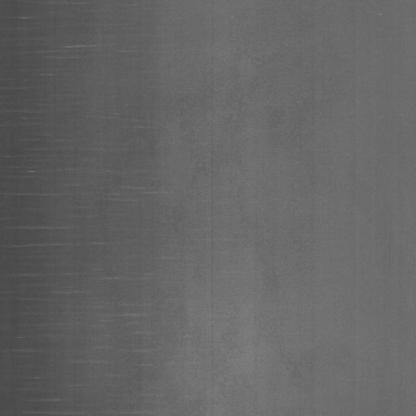waist_folding: (22, 26, 174, 365)
